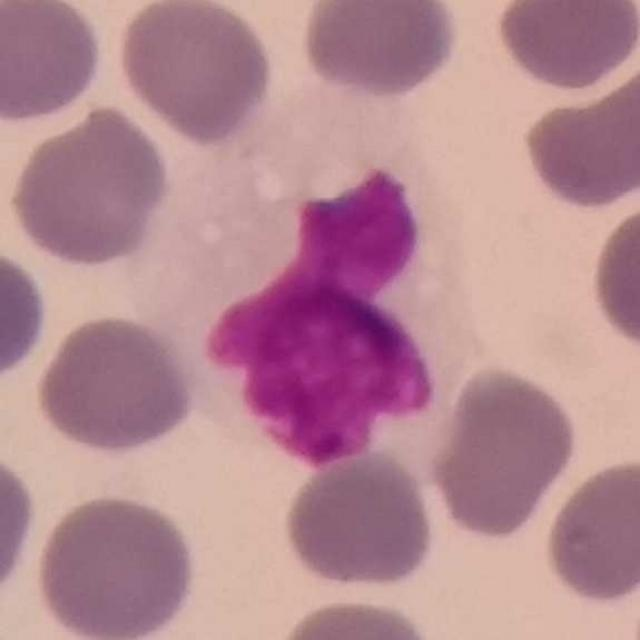Monocyte: (135, 88, 480, 478)
RBC: (425, 361, 582, 542), (5, 102, 174, 270), (31, 489, 199, 640), (31, 310, 199, 458), (277, 444, 441, 593), (112, 0, 278, 147), (517, 55, 640, 212), (296, 0, 463, 101), (538, 453, 640, 609), (491, 0, 640, 93), (0, 0, 107, 128), (586, 194, 640, 363), (268, 593, 441, 640), (0, 242, 52, 389), (0, 444, 40, 612)
